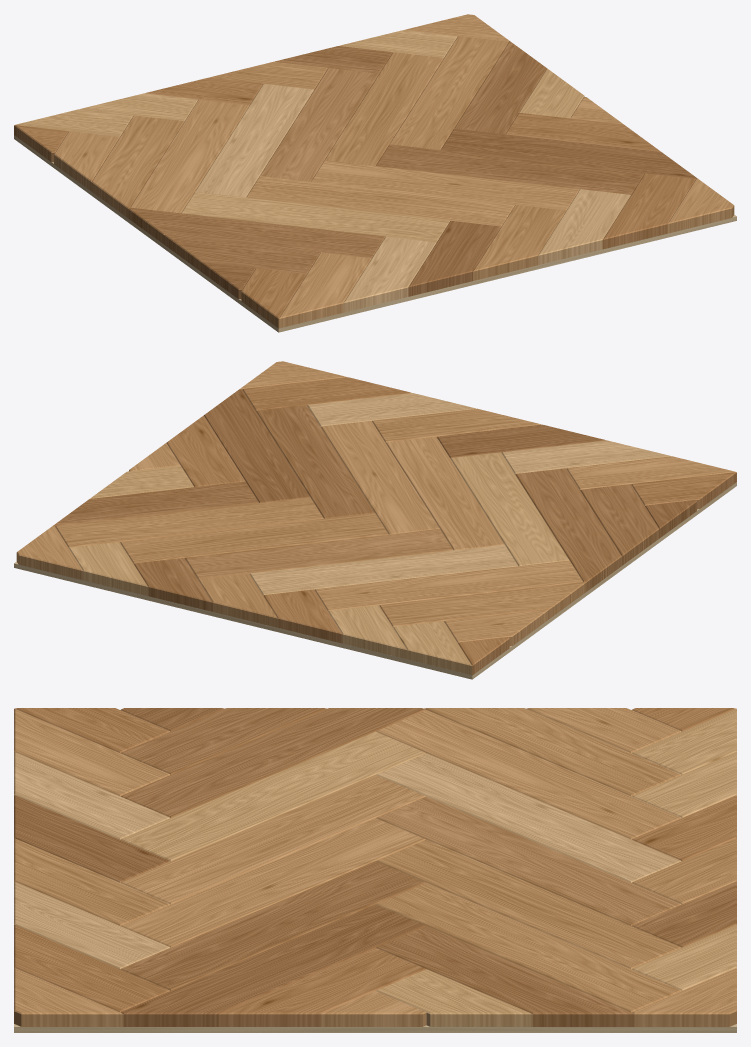
The model's file is herringbone-parquet-floor-tile-oak.glb.
3 renders of one model, top to bottom at view 1: azimuth 30°, elevation 25°; view 2: azimuth 150°, elevation 25°; view 3: azimuth 270°, elevation 25°, orthographic. The views are drawn at different scales.
Visible parts, largest first — view 1: Herringbone parquet tile - Oak parquet planks, satin lacquer, Herringbone parquet tile - Birch plywood backing; view 2: Herringbone parquet tile - Oak parquet planks, satin lacquer, Herringbone parquet tile - Birch plywood backing; view 3: Herringbone parquet tile - Oak parquet planks, satin lacquer, Herringbone parquet tile - Birch plywood backing.
Part boxes in pixels (left/top/right/bottom): Herringbone parquet tile - Oak parquet planks, satin lacquer: left=14, top=14, right=734, bottom=328; Herringbone parquet tile - Birch plywood backing: left=14, top=135, right=736, bottom=332; Herringbone parquet tile - Oak parquet planks, satin lacquer: left=16, top=361, right=736, bottom=675; Herringbone parquet tile - Birch plywood backing: left=14, top=482, right=736, bottom=679; Herringbone parquet tile - Oak parquet planks, satin lacquer: left=14, top=708, right=736, bottom=1026; Herringbone parquet tile - Birch plywood backing: left=14, top=1024, right=736, bottom=1032.
Bounding box in the file's own units: 0.7 × 0.021 × 0.7.
2 materials, 2 textured.
